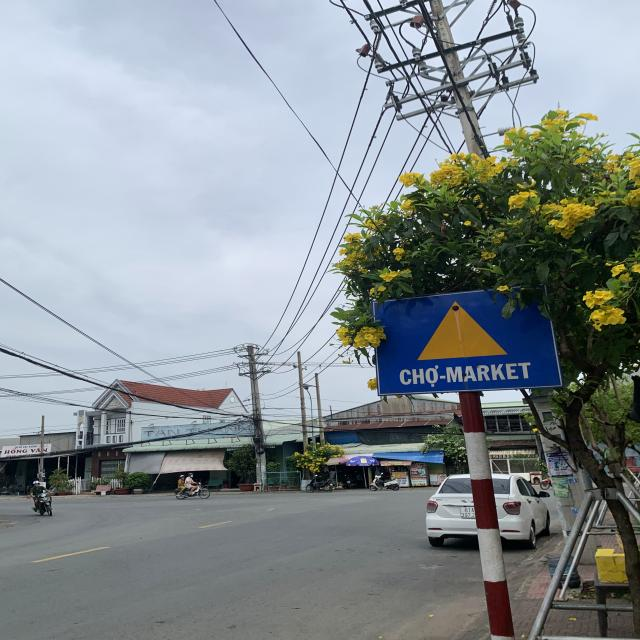Cho_Quay_Xe: (378, 290, 568, 398)
